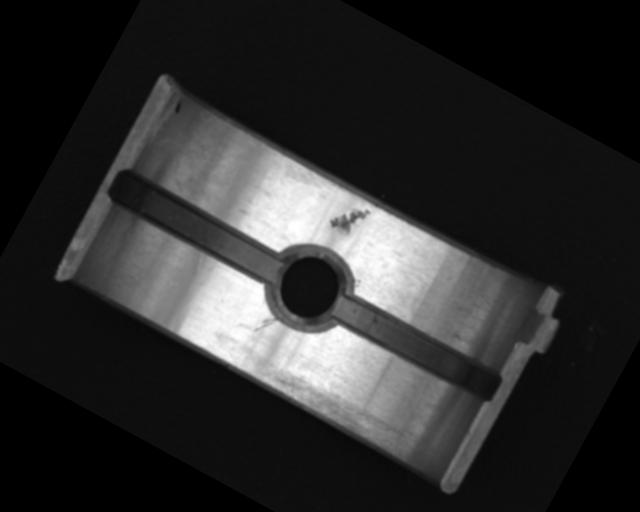blot: (169, 96, 187, 117)
bruise: (324, 195, 373, 245)
gap: (104, 166, 290, 290), (327, 288, 505, 407)
hole: (255, 235, 364, 344)
nick: (254, 310, 279, 338)
scratch: (254, 353, 417, 464)
